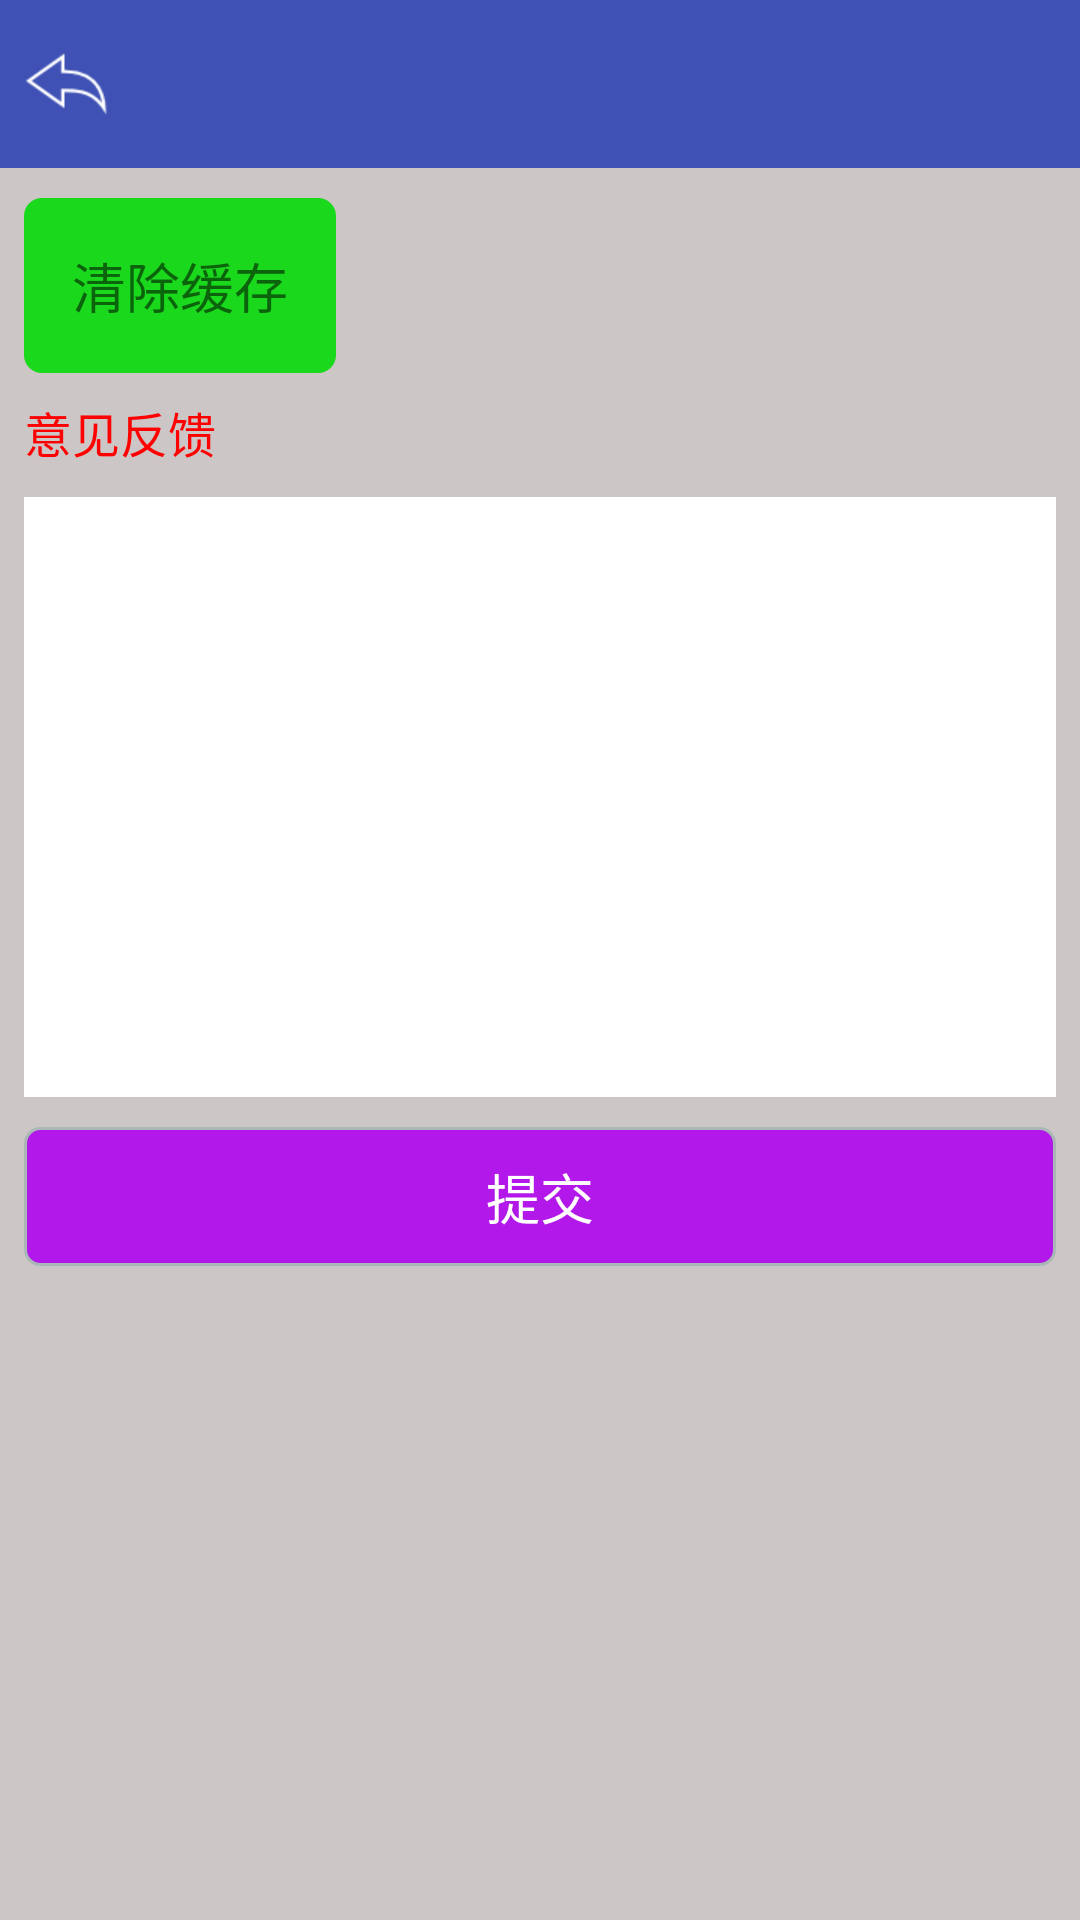

Point at icon controls on the screen. Image size 1080w x 1920h, points as [x,y].
back: [66,83]
